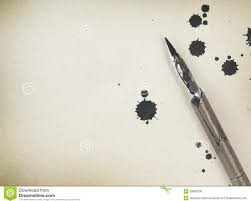pen: (164, 40, 251, 189)
